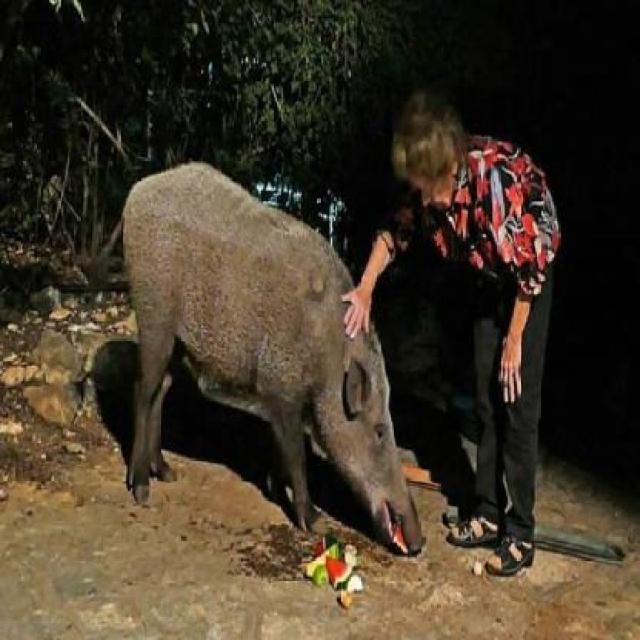wildboar: (86, 152, 428, 574)
